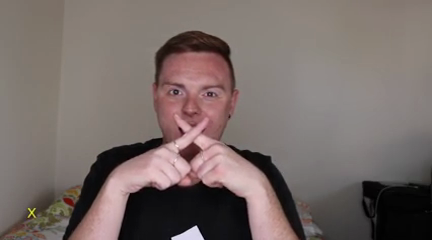X: (126, 108, 249, 198)
